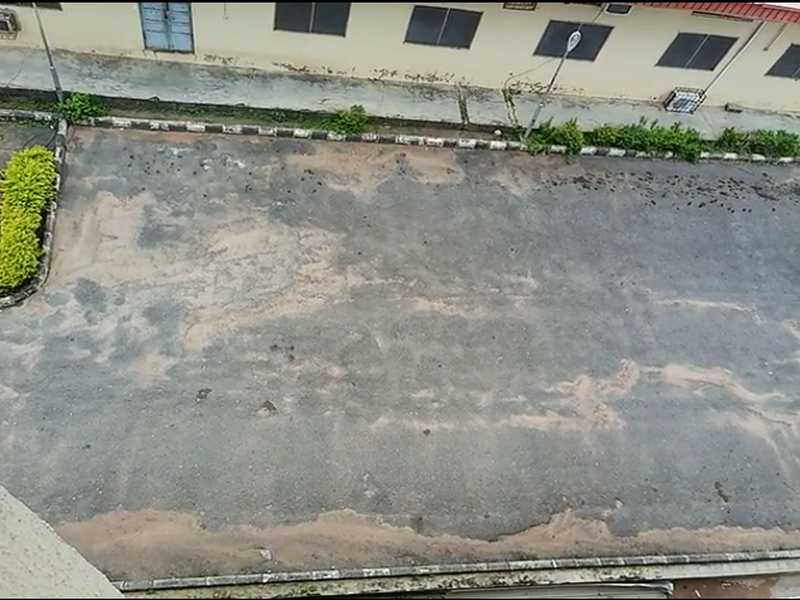four: (594, 124, 708, 323)
one: (31, 97, 182, 290)
three: (417, 119, 537, 315)
two: (235, 106, 366, 305)
